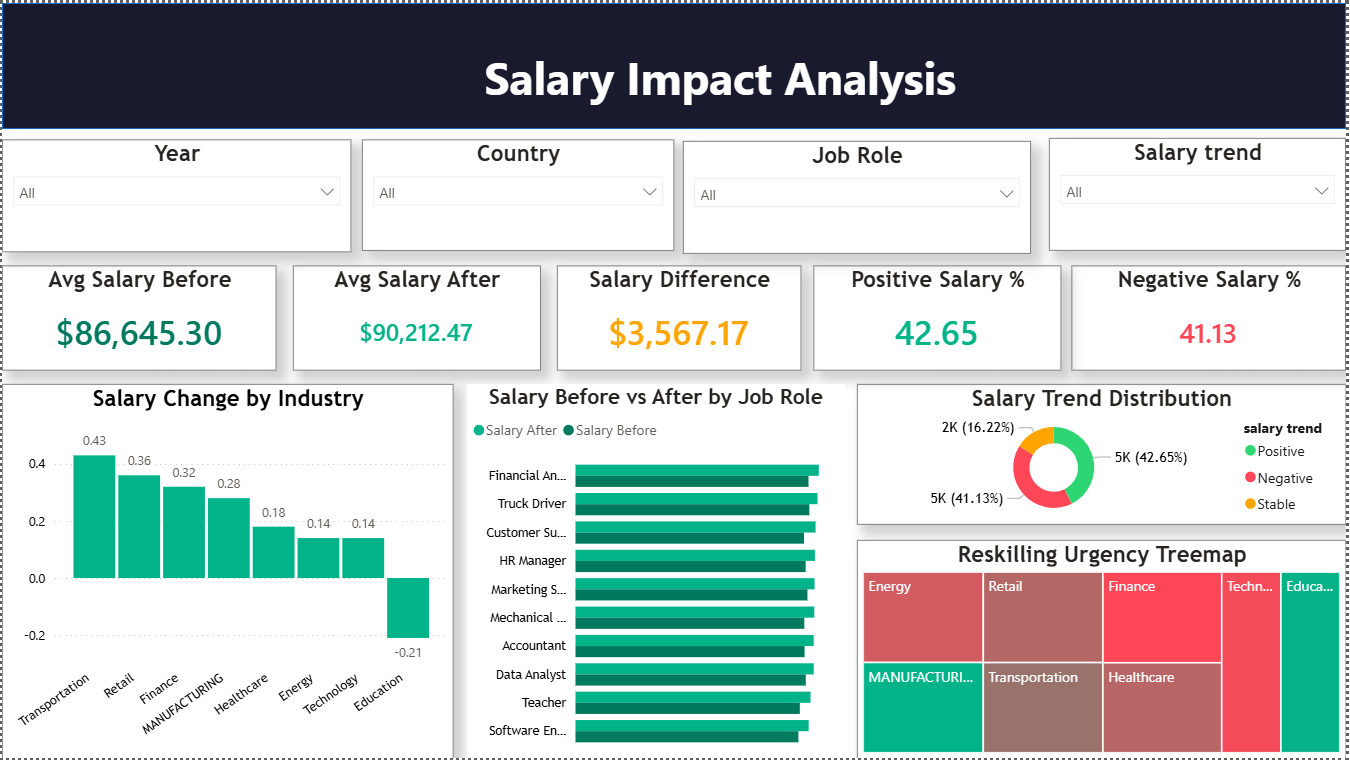

Layout of this report page (visuals, bound fields, positions):
{"tool":"powerbi","page":{"name":"Salary Analysis","canvas":[1280,720],"ordinal":2},"visuals":[{"type":"shape","box":[0,0,1280,120],"z":0,"group":"g1"},{"type":"cardVisual","title":"Avg Salary Before","fields":{"Data":["Measures Table.Avg Salary Before"]},"box":[0,250,261.4,100],"z":0},{"type":"textbox","box":[300,0,697.1,120],"z":1000,"group":"g1"},{"type":"donutChart","title":"Salary Trend Distribution","fields":{"Category":["ai_jobs_dirty.salary_trend"],"Y":["Measures Table.Total Jobs"]},"box":[814.3,362.9,465.7,134.3],"z":1000},{"type":"cardVisual","title":"Avg Salary After","fields":{"Data":["Measures Table.Avg Salary After"]},"box":[277.1,250,235.7,100],"z":2000},{"type":"treemap","title":" Reskilling Urgency Treemap","fields":{"Group":["ai_jobs_dirty.industry"],"Values":["Measures Table.Avg Reskilling Urgency"]},"box":[814.3,511.4,465.7,208.6],"z":3000},{"type":"cardVisual","title":" Salary Difference","fields":{"Data":["Measures Table.Salary Difference"]},"box":[528.6,250,232.9,100],"z":4000},{"type":"cardVisual","title":"Negative Salary %","fields":{"Data":["Measures Table.Negative Salary %"]},"box":[1018.6,250,261.4,100],"z":5000},{"type":"clusteredColumnChart","title":"Salary Change by Industry","fields":{"Category":["ai_jobs_dirty.industry"],"Y":["Measures Table.Avg Salary Change %"]},"box":[0,362.9,430,357.1],"z":6000},{"type":"cardVisual","title":"Positive Salary %","fields":{"Data":["Measures Table.Positive Salary %"]},"box":[772.9,250,235.7,100],"z":7000},{"type":"group","id":"g1","title":"Group 2","box":[0,0,1280,120],"z":8000},{"type":"slicer","title":"Year","fields":{"Values":["ai_jobs_dirty.year"]},"box":[0,130,332.9,107.1],"z":9000},{"type":"slicer","title":"Country","fields":{"Values":["ai_jobs_dirty.country"]},"box":[342.9,130,297.1,105.7],"z":10000},{"type":"slicer","title":"Job Role","fields":{"Values":["ai_jobs_dirty.job_role"]},"box":[648.6,131.4,331.4,107.1],"z":11000},{"type":"slicer","title":"Salary trend","fields":{"Values":["ai_jobs_dirty.salary_trend"]},"box":[997.1,128.6,282.9,107.1],"z":12000},{"type":"clusteredBarChart","title":"Salary Before vs After by Job Role","fields":{"Category":["ai_jobs_dirty.job_role"],"Y":["Measures Table.Chart Sal After","Measures Table.Chart Sal Before"]},"box":[442.9,362.9,360,357.1],"z":13000}]}

Visuals, with their boxes in screenshot pixels (x1, y1, x2, y2), scaled from the page's 1280x720 canvas onto the 1350x760 screenshot:
shape: bbox(0, 0, 1349, 127)
"Avg Salary Before" cardVisual: bbox(0, 264, 276, 369)
textbox: bbox(316, 0, 1052, 127)
"Salary Trend Distribution" donutChart: bbox(859, 383, 1349, 525)
"Avg Salary After" cardVisual: bbox(292, 264, 541, 369)
" Reskilling Urgency Treemap" treemap: bbox(859, 540, 1349, 759)
" Salary Difference" cardVisual: bbox(558, 264, 803, 369)
"Negative Salary %" cardVisual: bbox(1074, 264, 1349, 369)
"Salary Change by Industry" clusteredColumnChart: bbox(0, 383, 454, 759)
"Positive Salary %" cardVisual: bbox(815, 264, 1064, 369)
"Group 2" group: bbox(0, 0, 1349, 127)
"Year" slicer: bbox(0, 137, 351, 250)
"Country" slicer: bbox(362, 137, 675, 249)
"Job Role" slicer: bbox(684, 139, 1034, 252)
"Salary trend" slicer: bbox(1052, 136, 1349, 249)
"Salary Before vs After by Job Role" clusteredBarChart: bbox(467, 383, 847, 759)
